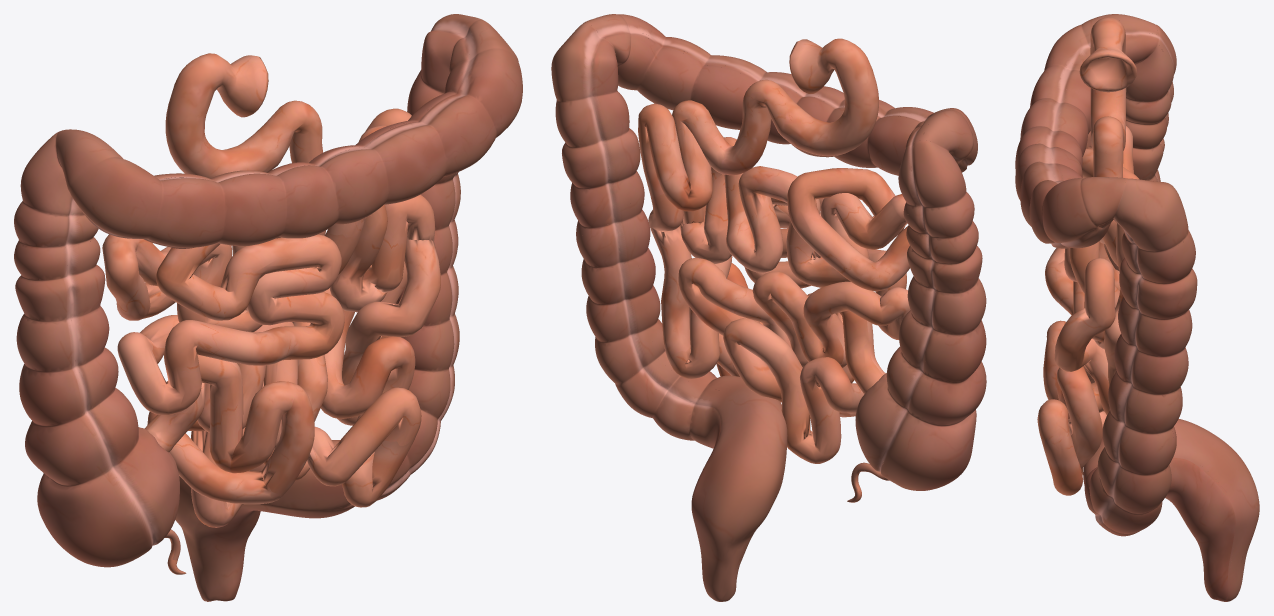
File: intestines.glb
The picture shows the model from 3 angles, left to right: view 1: azimuth 30°, elevation 25°; view 2: azimuth 150°, elevation 25°; view 3: azimuth 270°, elevation 25°; orthographic projection. The views are drawn at different scales.
Parts seen in each view (by area): view 1: Tjocktarm, Tunntarm; view 2: Tjocktarm, Tunntarm; view 3: Tjocktarm, Tunntarm.
Part boxes in pixels (<box>): Tjocktarm: <box>14,14,522,601</box>; Tunntarm: <box>102,53,440,527</box>; Tjocktarm: <box>551,14,986,601</box>; Tunntarm: <box>638,38,910,463</box>; Tjocktarm: <box>1015,14,1259,601</box>; Tunntarm: <box>1037,17,1139,495</box>.
Bounding box in the file's own units: 1.51 × 1.84 × 0.7468.
Materials: 2 (2 with a texture image).
